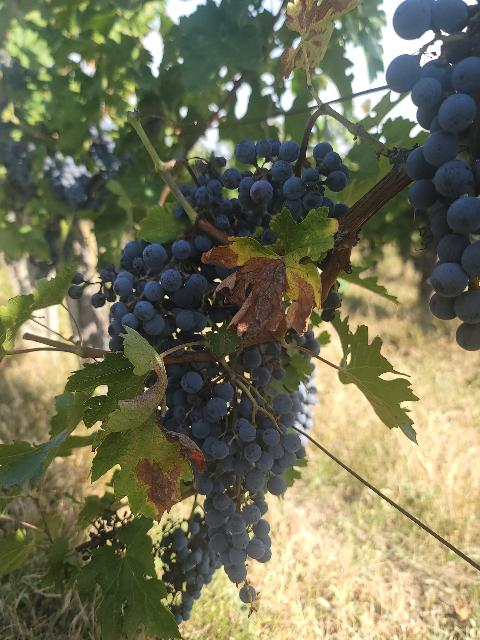grapes: (386, 0, 480, 351), (160, 361, 305, 582), (179, 141, 349, 245), (91, 234, 240, 351), (155, 511, 232, 624)
